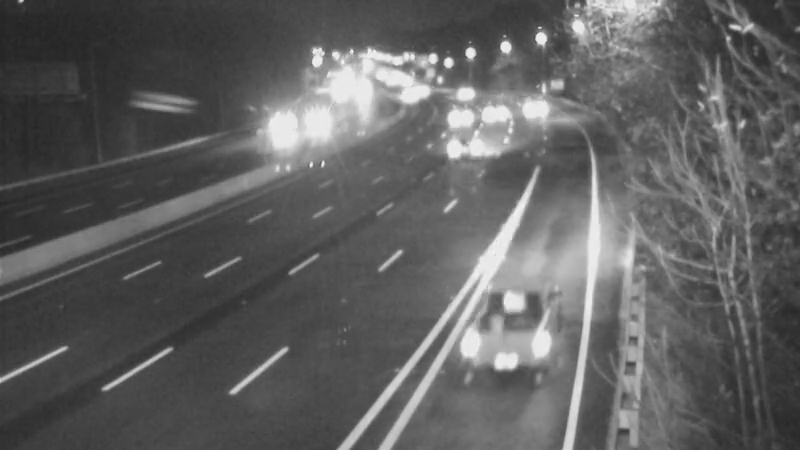vehicle: (448, 275, 558, 385), (439, 65, 489, 115), (378, 70, 428, 120), (507, 76, 557, 126), (471, 91, 521, 141), (420, 97, 470, 147), (438, 122, 488, 172), (253, 107, 303, 157), (297, 98, 347, 148)
